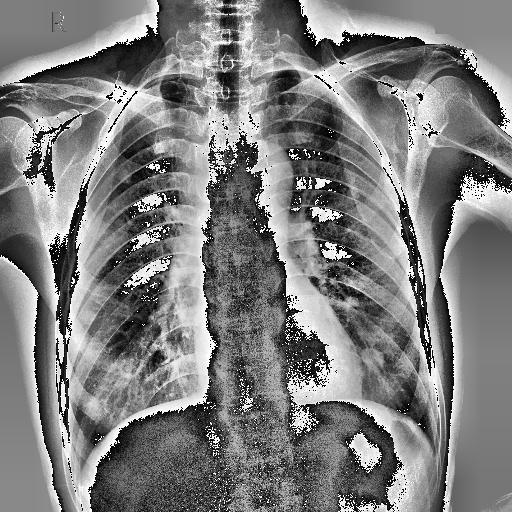0- Aortic enlargement: (239, 138, 293, 225), (239, 143, 293, 204)
8- Nodule-Mass: (359, 346, 384, 375), (360, 346, 386, 370), (159, 338, 181, 360), (360, 348, 384, 368), (72, 334, 88, 352), (70, 334, 86, 351), (82, 309, 98, 325), (80, 310, 96, 324), (118, 170, 132, 184), (82, 312, 98, 324), (120, 170, 132, 183), (348, 295, 360, 307), (178, 374, 188, 387), (384, 334, 394, 344), (349, 190, 359, 199)
